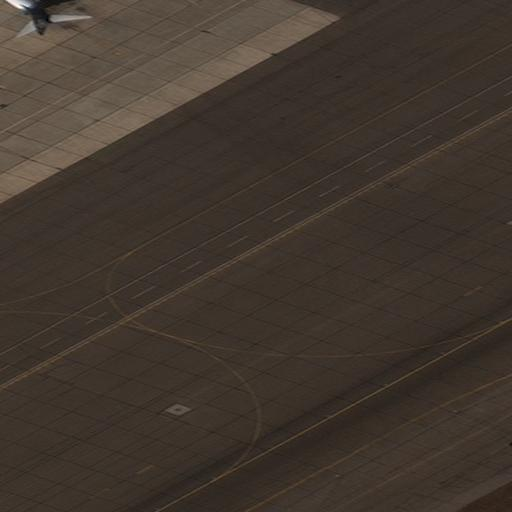Medium Civil Transport: (0, 0, 74, 34)
